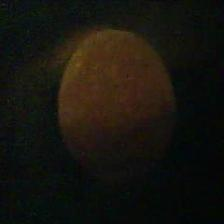fertile: (51, 26, 182, 179)
